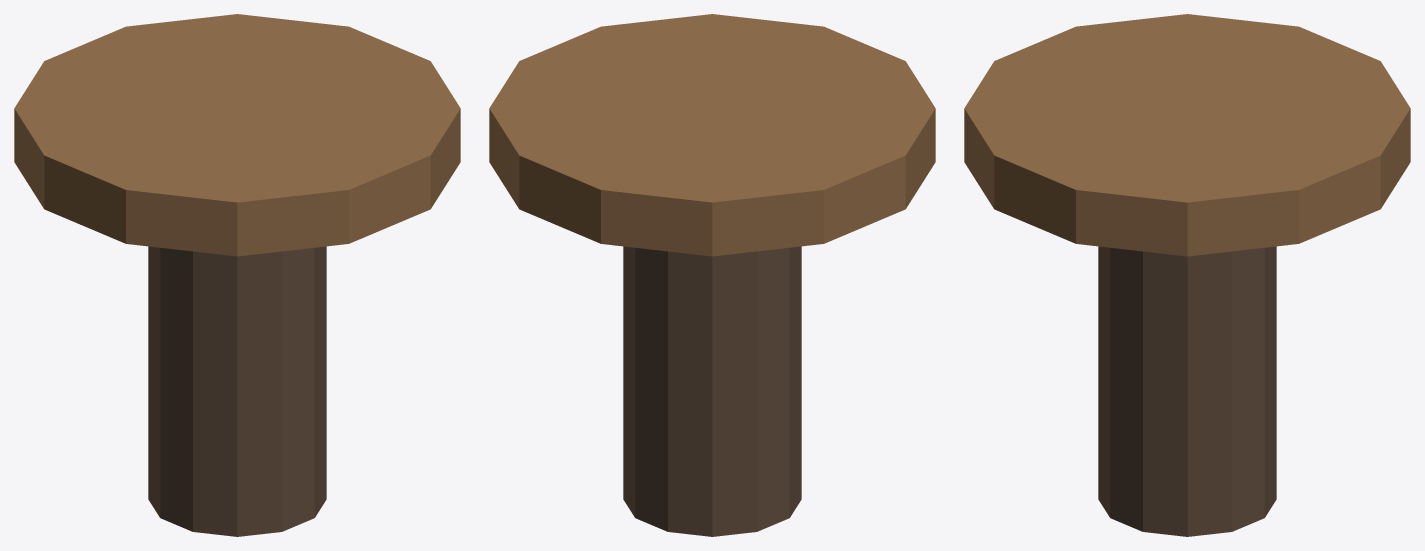
The model's file is objects-stool.lod0.glb.
3 renders of one model, left to right at view 1: azimuth 30°, elevation 25°; view 2: azimuth 150°, elevation 25°; view 3: azimuth 270°, elevation 25°, orthographic.
Parts seen in each view (by area): view 1: objects-stool__body; view 2: objects-stool__body; view 3: objects-stool__body.
Boxes of the visible parts, box(x1,y1,x2,y2) form: objects-stool__body: box(14, 14, 460, 536); objects-stool__body: box(489, 14, 935, 536); objects-stool__body: box(964, 14, 1410, 536).
Size of the model in its own units: 0.6 by 0.58 by 0.6.
